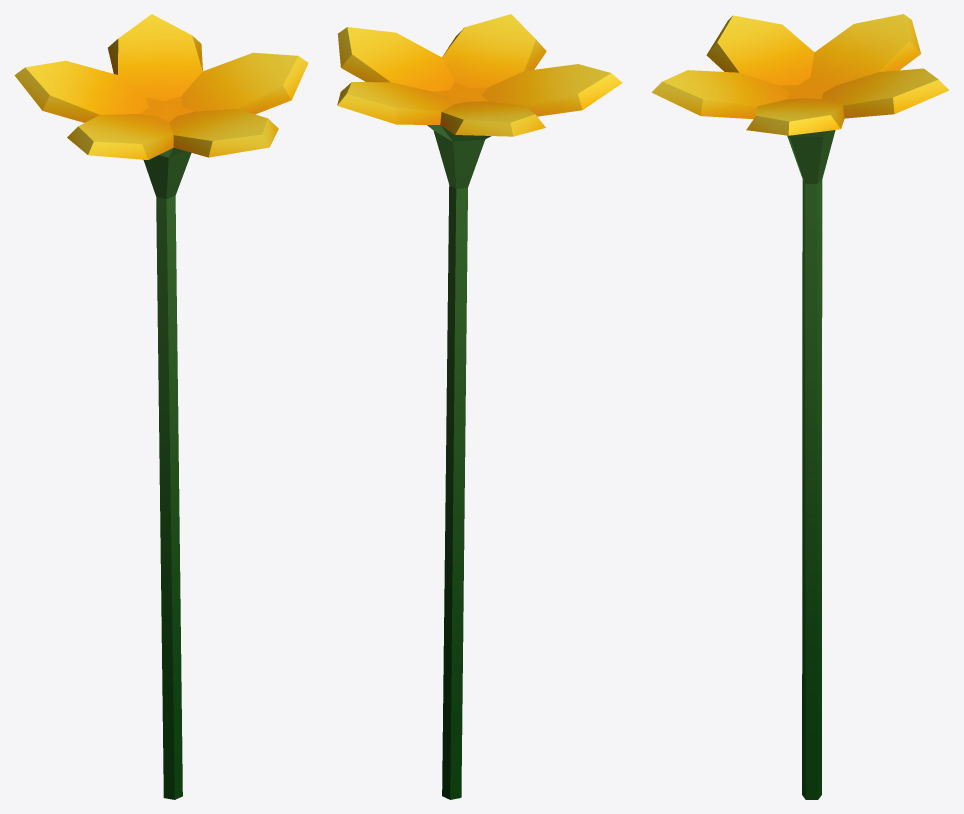
File: Flower_yellow_02.fbx
The picture shows the model from 3 angles, left to right: view 1: azimuth 30°, elevation 25°; view 2: azimuth 150°, elevation 25°; view 3: azimuth 270°, elevation 25°; orthographic projection.
Parts seen in each view (by area): view 1: Flower_yellow_02; view 2: Flower_yellow_02; view 3: Flower_yellow_02.
Boxes of the visible parts, <box> form: Flower_yellow_02: <box>14,14,308,799</box>; Flower_yellow_02: <box>337,14,622,799</box>; Flower_yellow_02: <box>652,14,949,799</box>.
Size of the model in its own units: 15.91 by 44.04 by 16.13.
